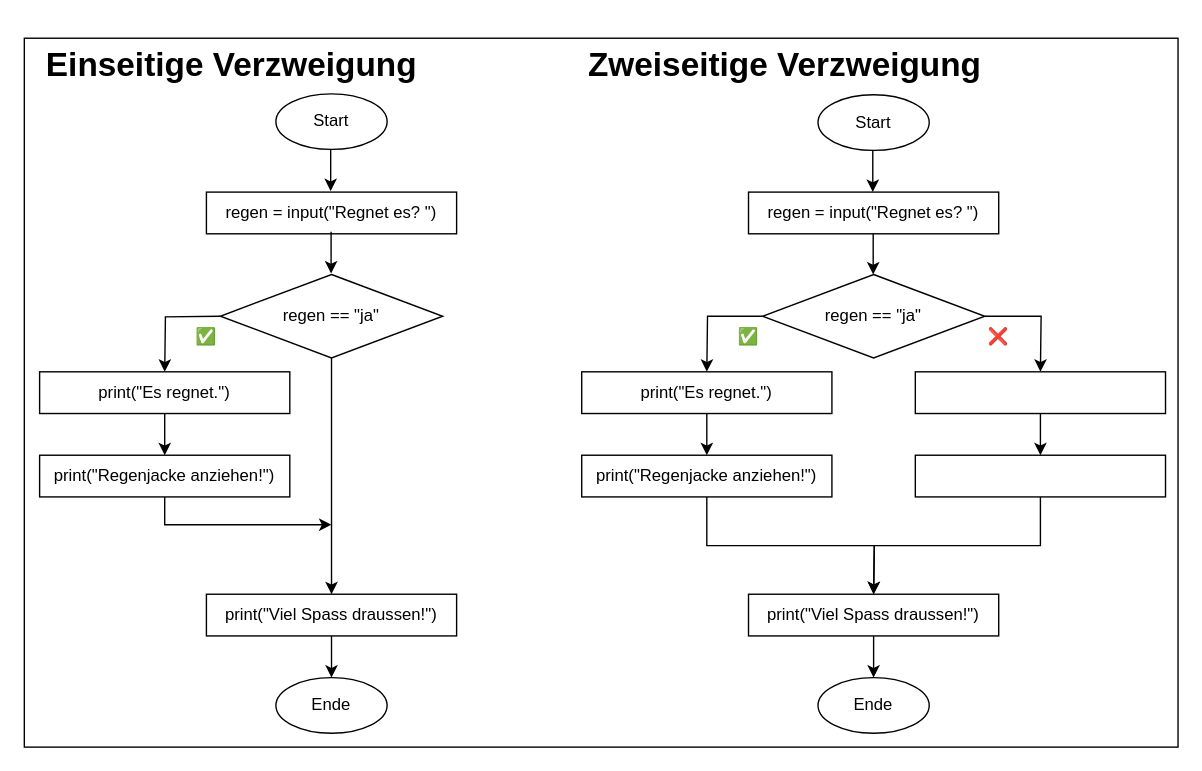
The diagram is 1202 pixels wide and 771 high, and some of its shapes have lost their labels. The centre of each missing label's shape, as x and y in pixels:
print("Die Windjacke reicht!"): point 1040,475
print("Es regnet nicht."): point 1040,392
